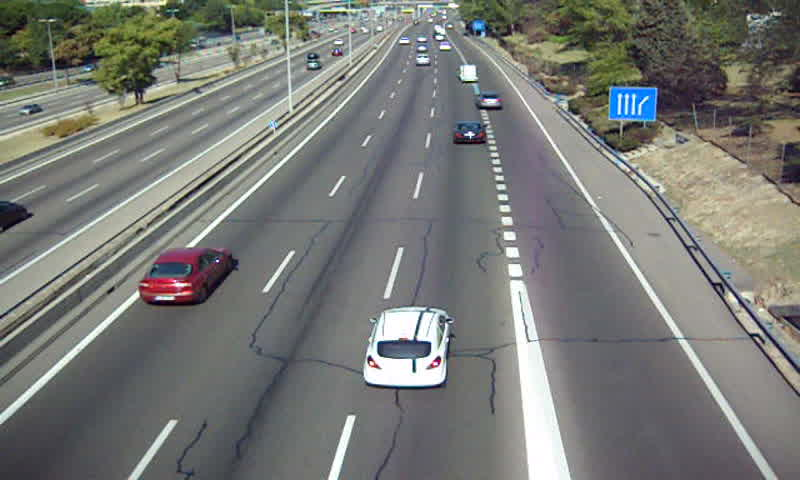car: (364, 306, 450, 387), (138, 247, 233, 304), (452, 121, 485, 144), (477, 92, 503, 111), (416, 52, 430, 65)
van: (459, 64, 477, 81)
